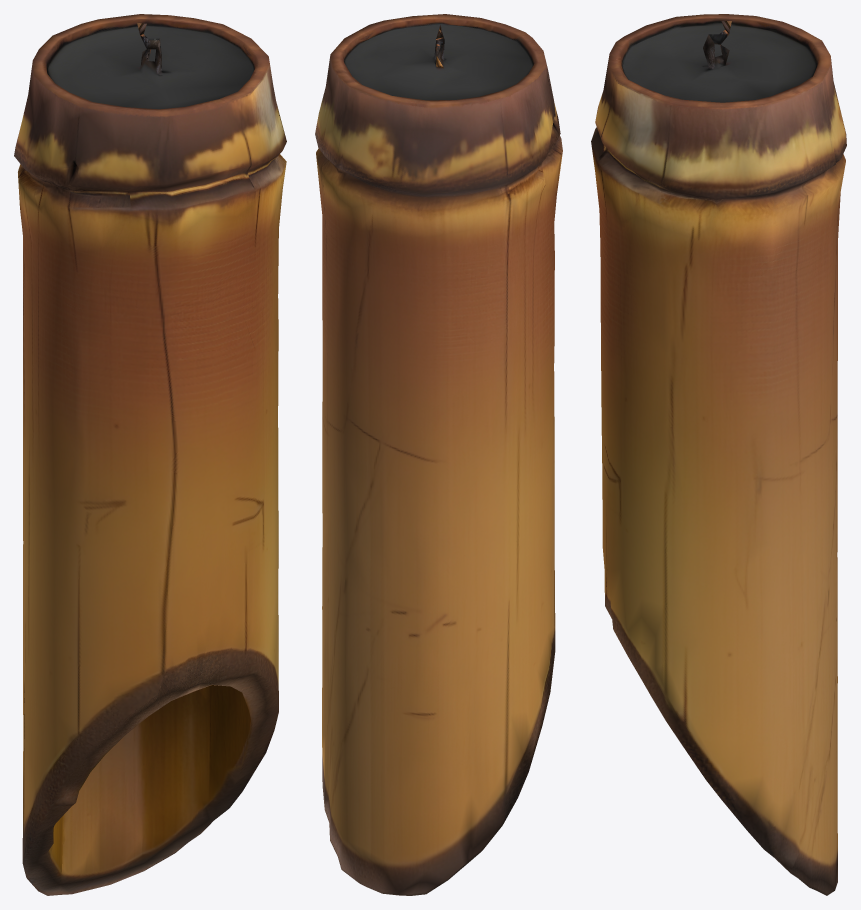
File: A_realistic_front_vie_1108203234_texture.glb
3 views of the same model, side by side, from view 1: azimuth 30°, elevation 25°; view 2: azimuth 150°, elevation 25°; view 3: azimuth 270°, elevation 25° (orthographic). The views are drawn at different scales.
Size of the model in its own units: 0.509 by 1.91 by 0.5148.
Materials: 1 (1 with a texture image).
